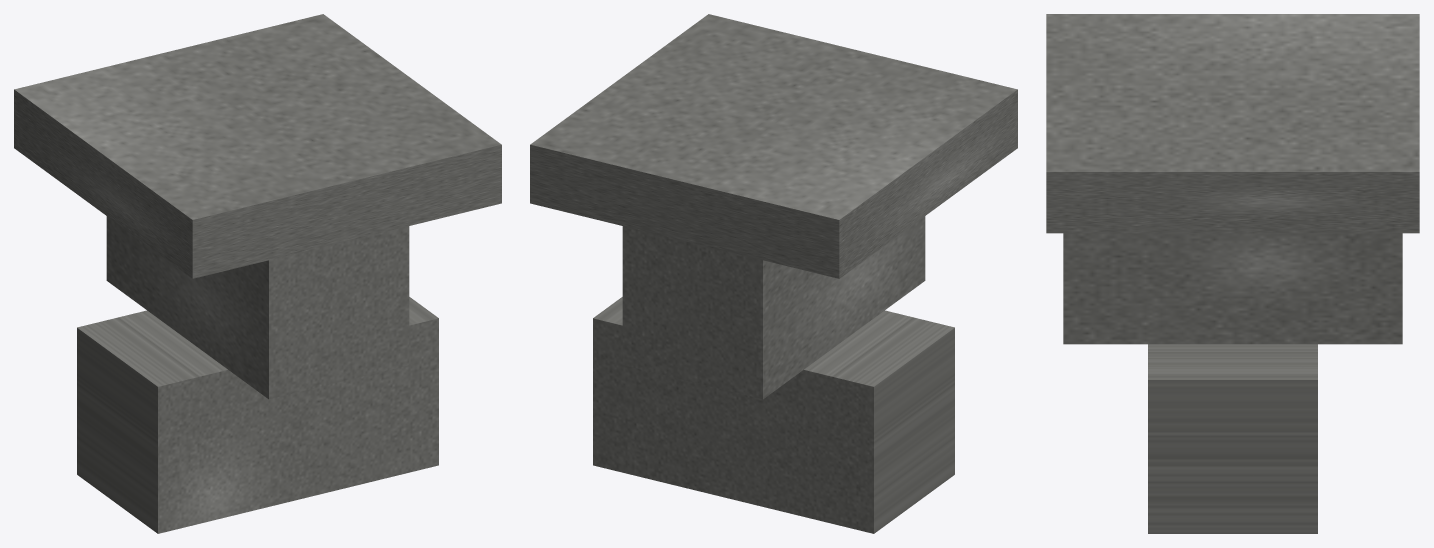
The model's file is WK_STR_CinderPier.glb.
3 renders of one model, left to right at view 1: azimuth 30°, elevation 25°; view 2: azimuth 150°, elevation 25°; view 3: azimuth 270°, elevation 25°, orthographic. The views are drawn at different scales.
Parts seen in each view (by area): view 1: WK_STR_CinderPier_P03, WK_STR_CinderPier_P01, WK_STR_CinderPier_P02; view 2: WK_STR_CinderPier_P03, WK_STR_CinderPier_P01, WK_STR_CinderPier_P02; view 3: WK_STR_CinderPier_P03, WK_STR_CinderPier_P02, WK_STR_CinderPier_P01.
Part boxes in pixels (x1,y1,x2,y2): WK_STR_CinderPier_P03: (14, 14, 501, 278); WK_STR_CinderPier_P01: (77, 297, 438, 533); WK_STR_CinderPier_P02: (106, 216, 409, 399); WK_STR_CinderPier_P03: (530, 14, 1017, 278); WK_STR_CinderPier_P01: (593, 297, 954, 533); WK_STR_CinderPier_P02: (622, 216, 925, 399); WK_STR_CinderPier_P03: (1046, 14, 1419, 233); WK_STR_CinderPier_P02: (1063, 233, 1402, 344); WK_STR_CinderPier_P01: (1148, 344, 1317, 533).
Size of the model in its own units: 0.44 by 0.48 by 0.44.
1 material, 1 textured.
